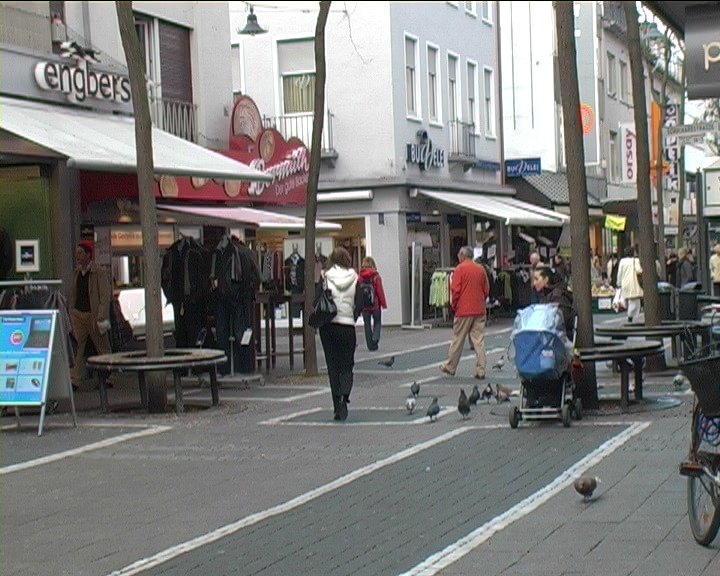undeflect: (319, 244, 365, 302)
